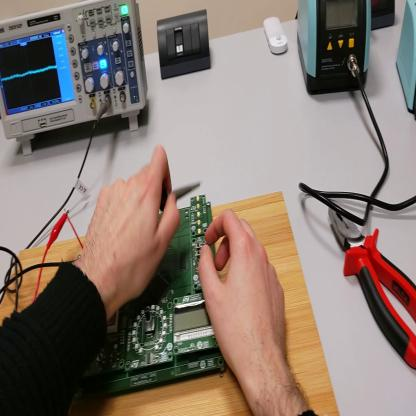hand: (80, 147, 180, 309), (199, 207, 287, 378)
low voltage board: (64, 196, 226, 398)
oscilloscope: (2, 3, 148, 156)
oscilloscope probe tip: (165, 180, 204, 208)
pliers: (331, 206, 416, 371)
socket: (372, 1, 397, 33)
welder base: (397, 3, 416, 116)
welder station: (298, 1, 371, 94)
working area: (2, 193, 347, 415)
